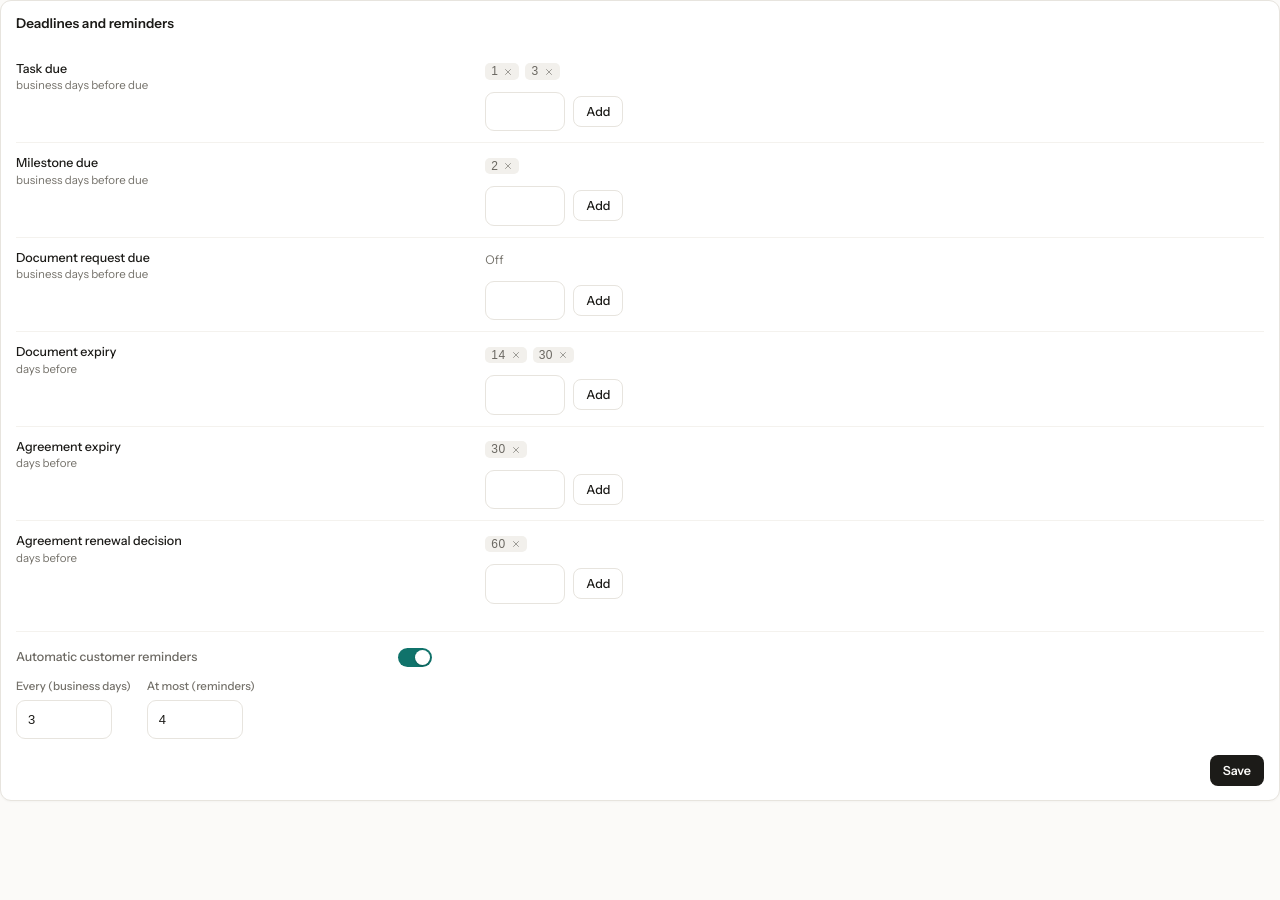
HorizonsCard › refuses a duplicate
Type "3" into the 1st number field named "Lead time in days". click: (525, 111)
box: [485,92,565,131]
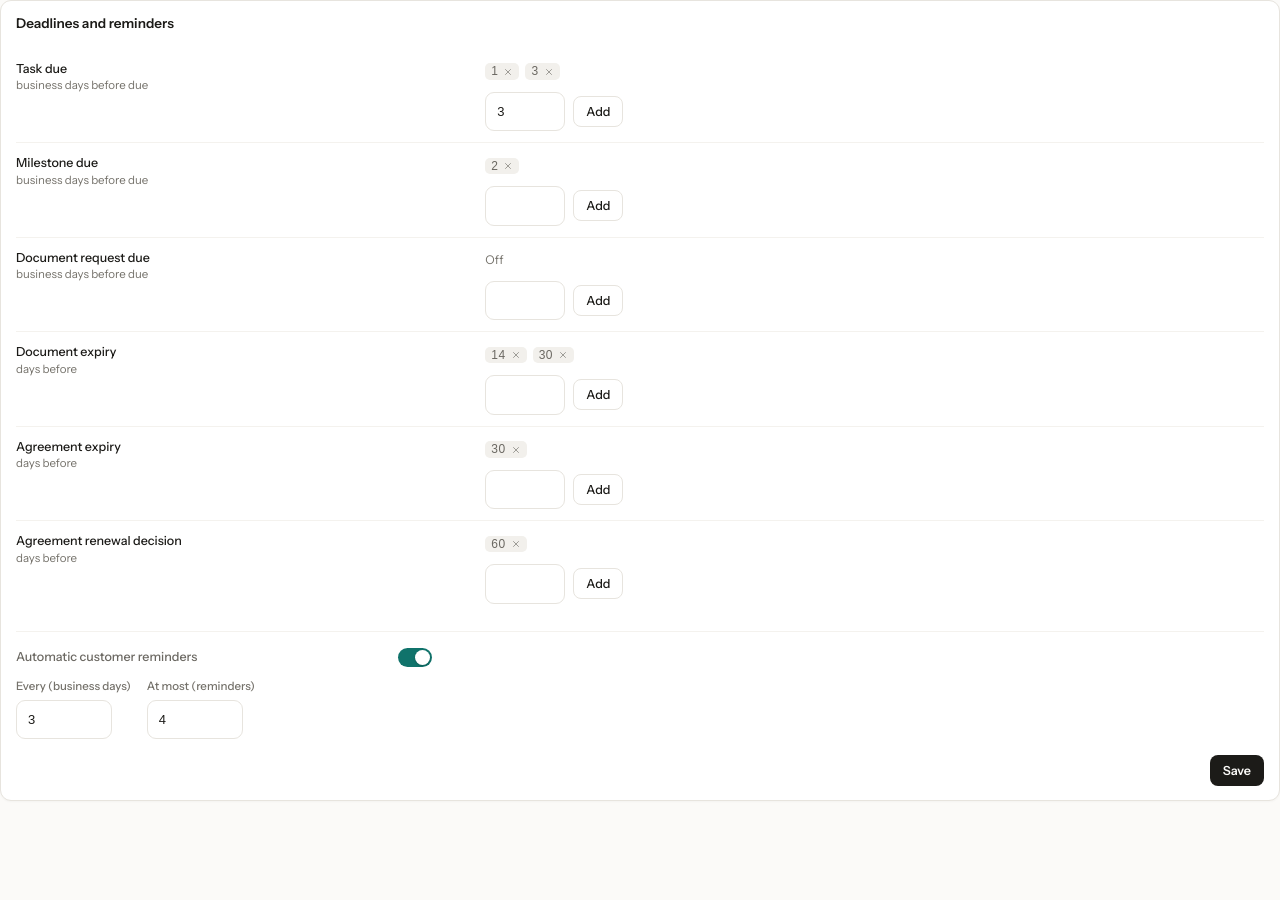
Click the button with aria-label "Add lead time". click: (598, 111)
box: [573,96,623,127]
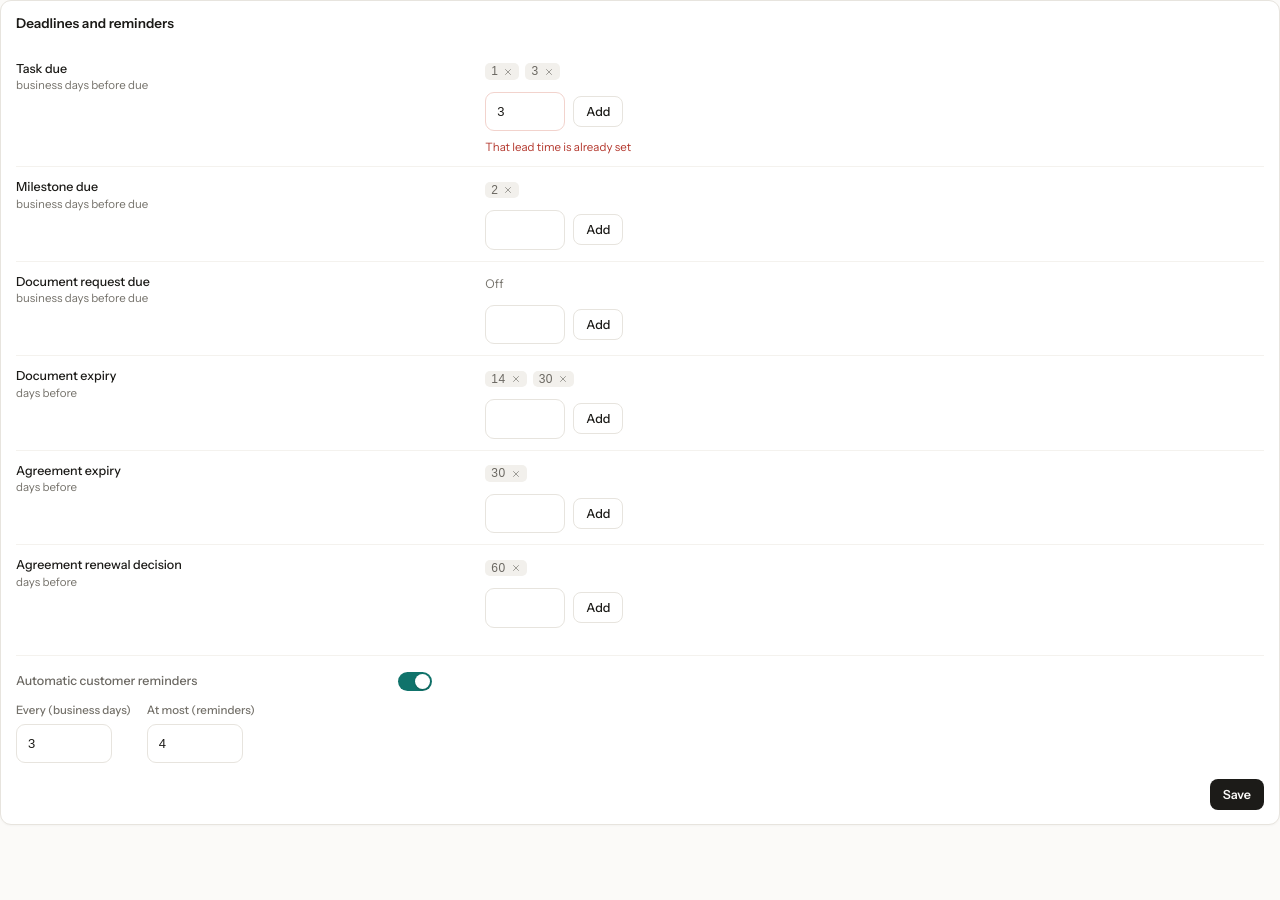
Expected: the number of buttons named "Remove" is 2, [485,63,520,80]; [526,63,560,80]
Expected: the message reads "That lead time is already set", [485,140,631,154]
